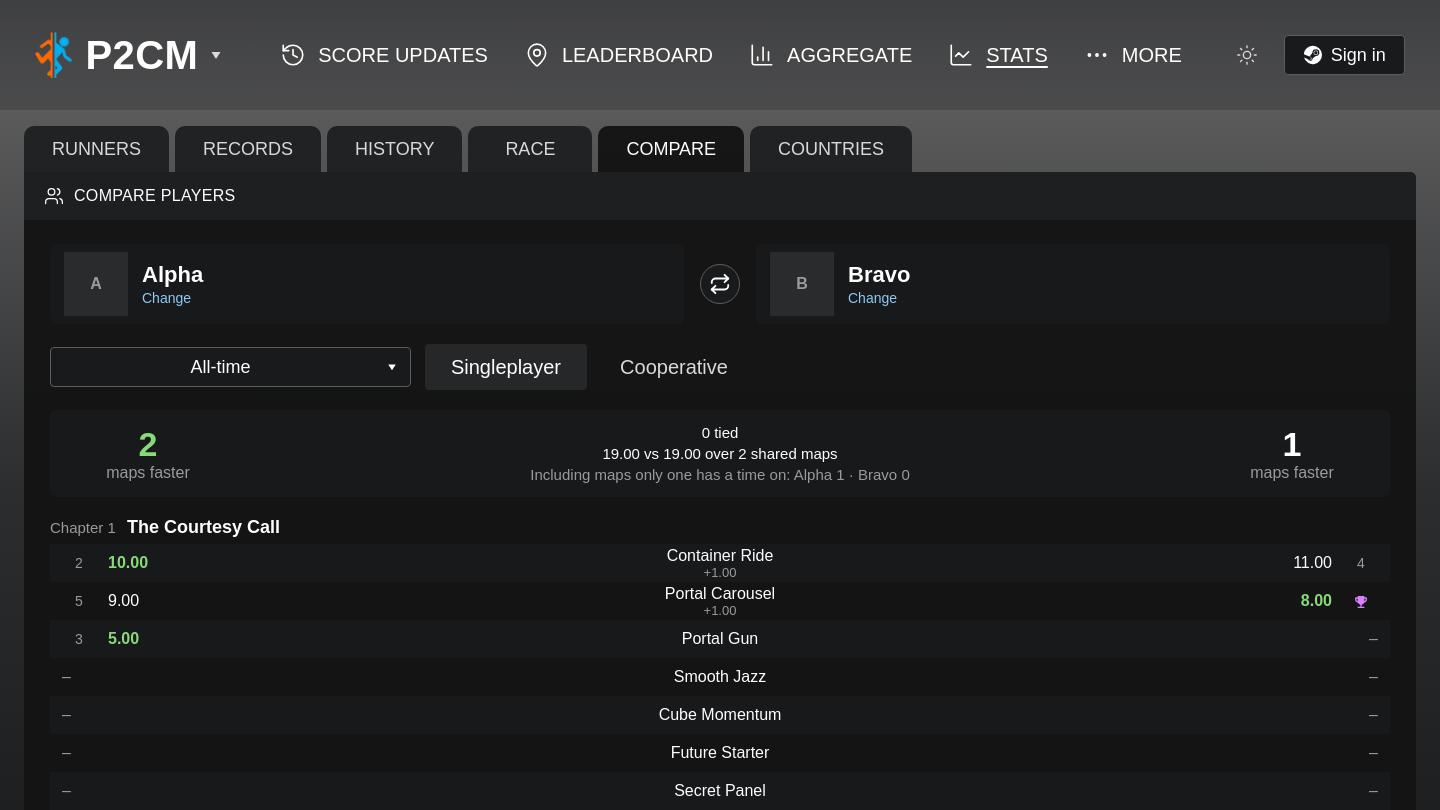
Scenario: Compare › switches to co-op
The width and height of the screenshot is (1440, 810).
Check: the element named "Summary" is shown, box left=50, top=410, right=1390, bottom=497
Click the radio button labelled "Cooperative" at [674, 367], box left=593, top=344, right=755, bottom=390
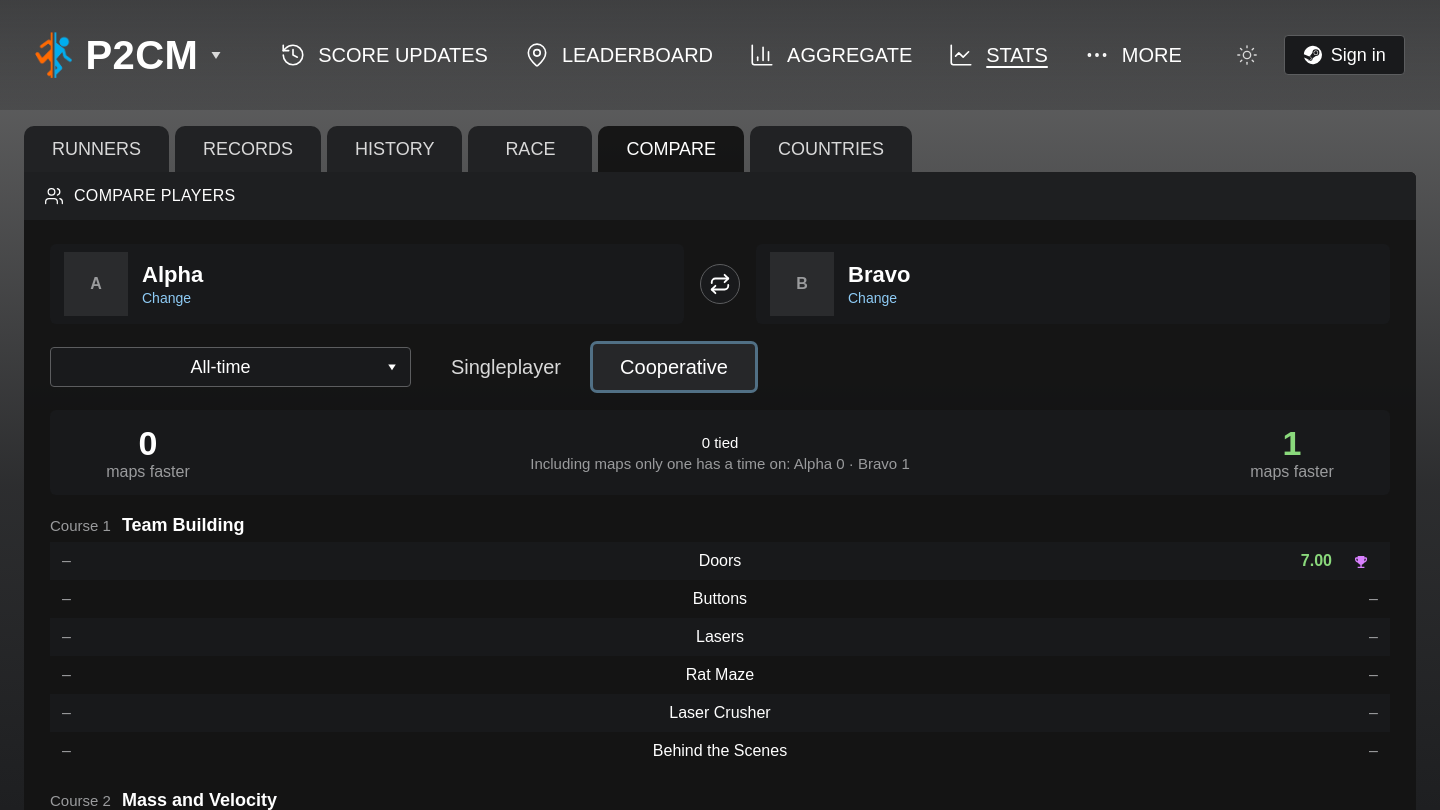
Check: the row "Doors" is shown, box left=50, top=542, right=1390, bottom=580
